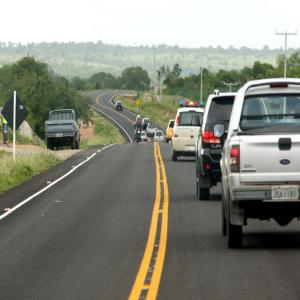Vehicle-registration-plate: (273, 187, 299, 202)
